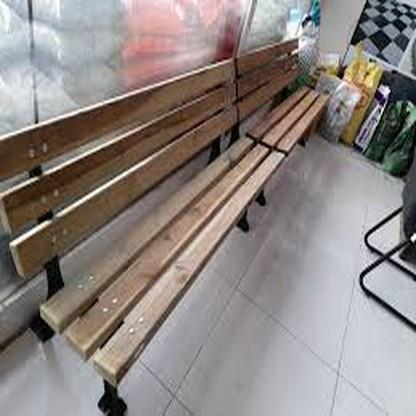obstacle: (12, 55, 232, 387), (242, 45, 341, 155)
